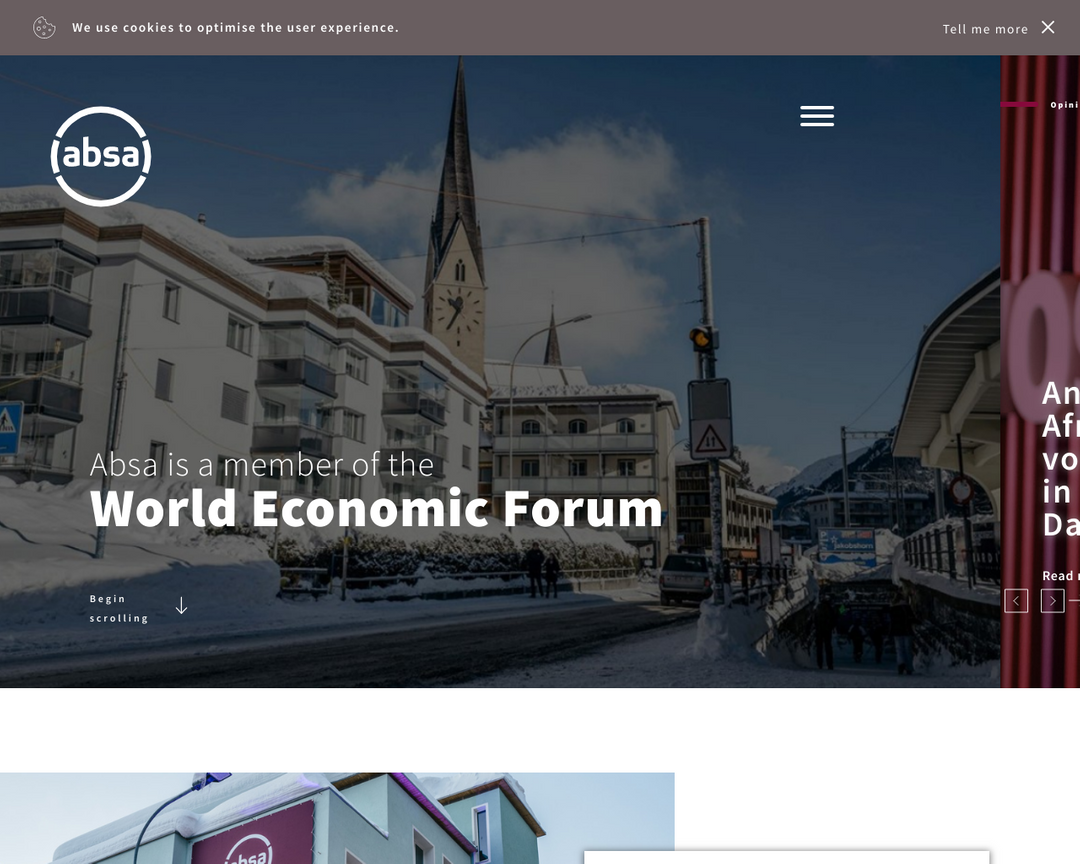ABSA: (43, 101, 155, 210)
